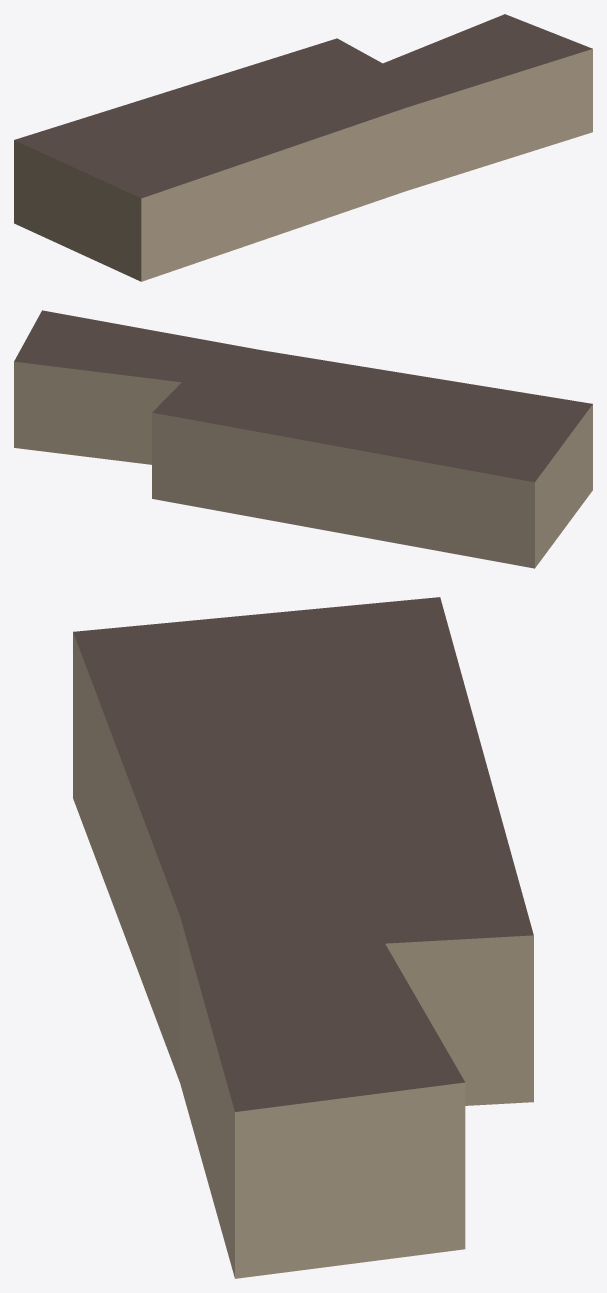
3 renders of one model, top to bottom at view 1: azimuth 30°, elevation 25°; view 2: azimuth 150°, elevation 25°; view 3: azimuth 270°, elevation 25°, orthographic. The views are drawn at different scales.
Parts seen in each view (by area): view 1: HP-w1512495273; view 2: HP-w1512495273; view 3: HP-w1512495273.
Part boxes in pixels (bbox=[...]): HP-w1512495273: bbox=[14, 14, 592, 281]; HP-w1512495273: bbox=[14, 310, 592, 568]; HP-w1512495273: bbox=[73, 597, 533, 1278].
Size of the model in its own units: 59.59 by 9 by 22.53.
